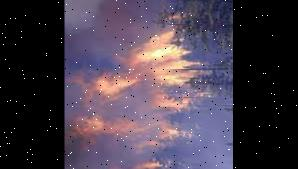fire: (69, 27, 205, 169)
